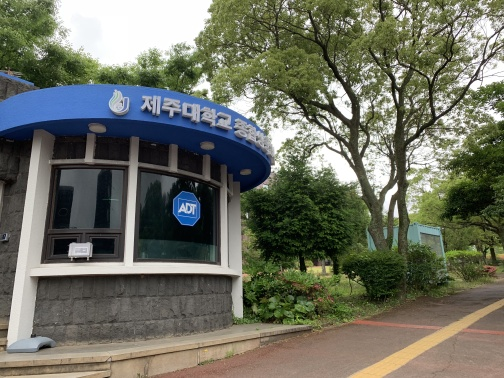Security Office: (4, 71, 295, 360)
